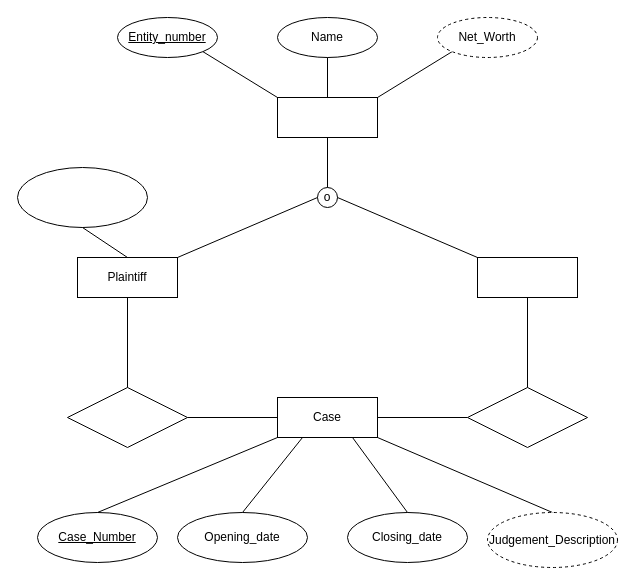
This 635x585 diagram has some shape labels left out. Each missing label, with the centre of its shape:
"Brought against" belongs at (x=527, y=417).
"Brought by" belongs at (x=127, y=417).
"Defendant" belongs at (x=527, y=277).
"Legal Entity" belongs at (x=327, y=117).
"Requested_judgement" belongs at (x=82, y=197).
